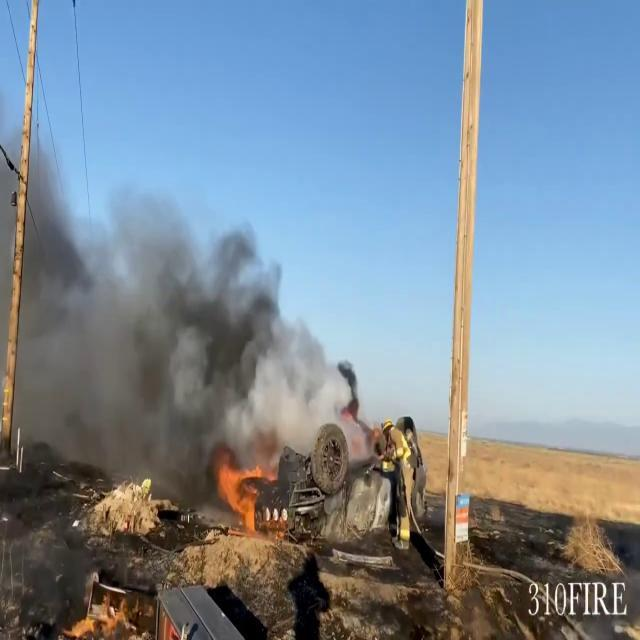Fire: (213, 451, 274, 535)
Smoke: (9, 178, 348, 498)
